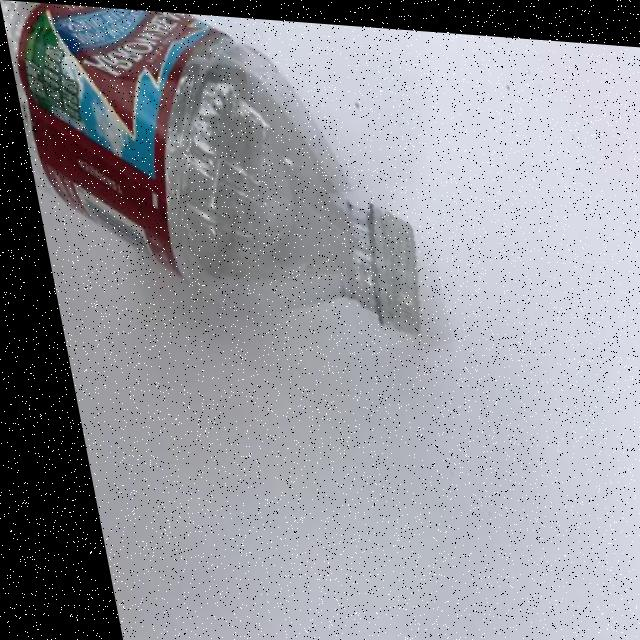litter: (310, 177, 441, 346)
